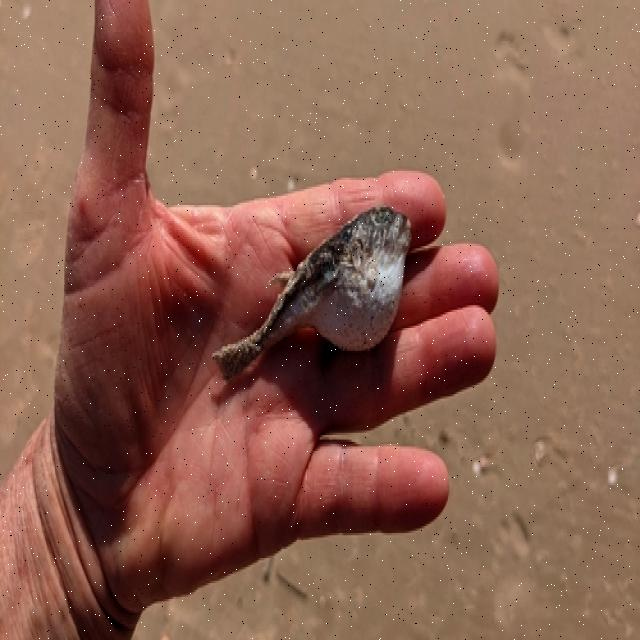Balik: (213, 208, 410, 380)
